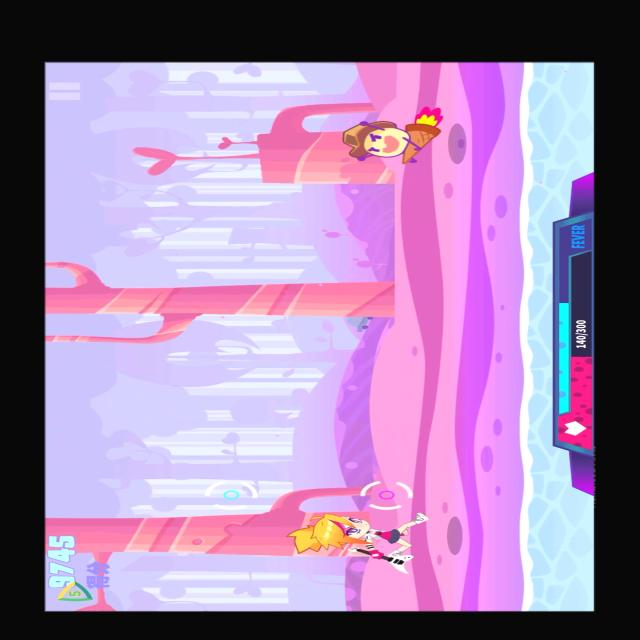Ground-Monster---Harry-Potter: (338, 104, 454, 167)
